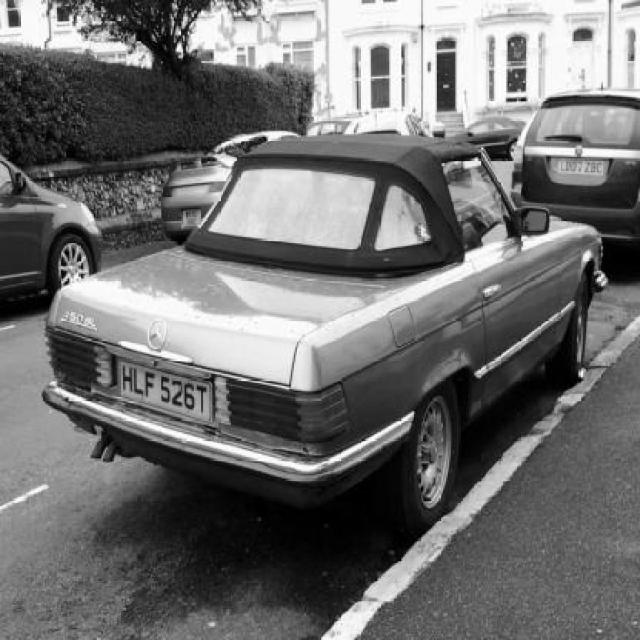car: (35, 121, 614, 538), (507, 86, 640, 255), (0, 137, 106, 308), (154, 118, 301, 235)
license-plate: (106, 358, 222, 420), (554, 159, 609, 183), (173, 202, 204, 226)
